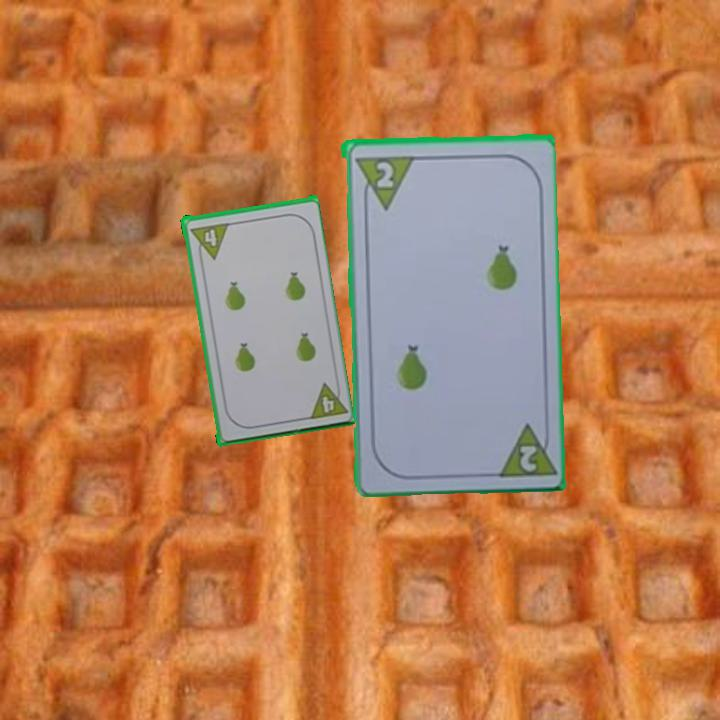2p: (490, 418, 555, 480), (350, 152, 414, 212)
4p: (186, 219, 231, 263), (304, 377, 348, 422)
